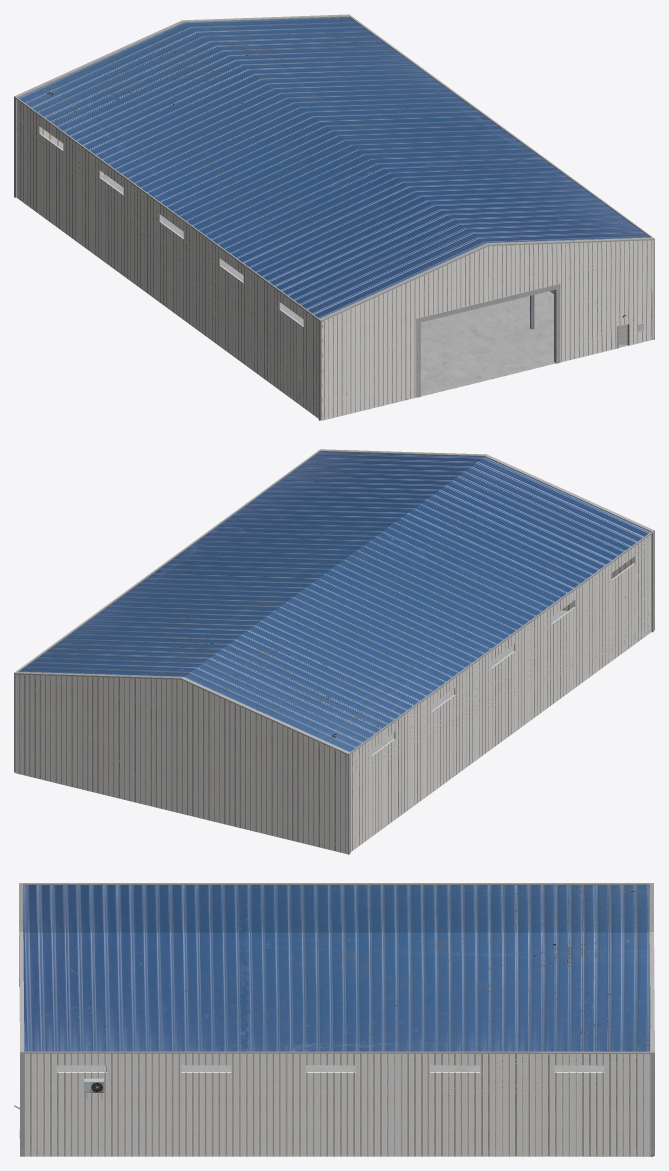
The model's file is angar_v2-3.obj.
3 views of the same model, one above another, from view 1: azimuth 30°, elevation 25°; view 2: azimuth 150°, elevation 25°; view 3: azimuth 270°, elevation 25° (orthographic). The views are drawn at different scales.
Visible parts, largest first — view 1: Ангар_v2_Куб.006; view 2: Ангар_v2_Куб.006; view 3: Ангар_v2_Куб.006.
Boxes of the visible parts, x1,y1,x2,y2 form: Ангар_v2_Куб.006: [14, 14, 654, 420]; Ангар_v2_Куб.006: [14, 449, 654, 854]; Ангар_v2_Куб.006: [14, 883, 654, 1156].
Size of the model in its own units: 424 by 161 by 665.
1 material, 1 textured.
